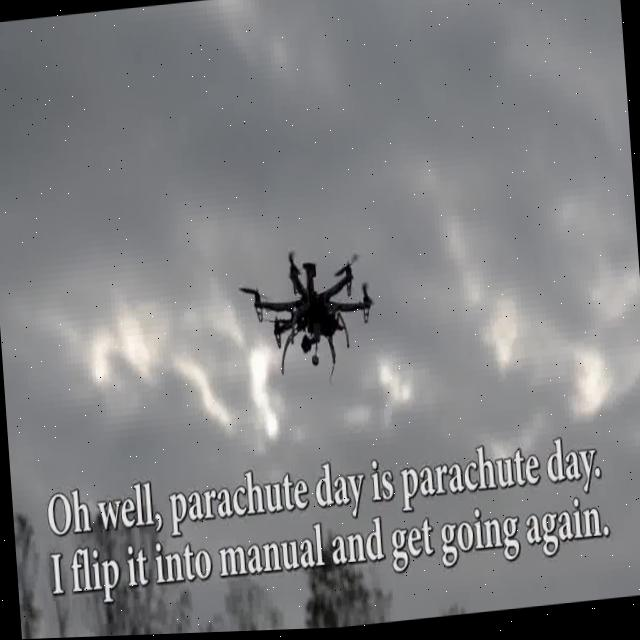drone: (7, 378, 640, 640)
